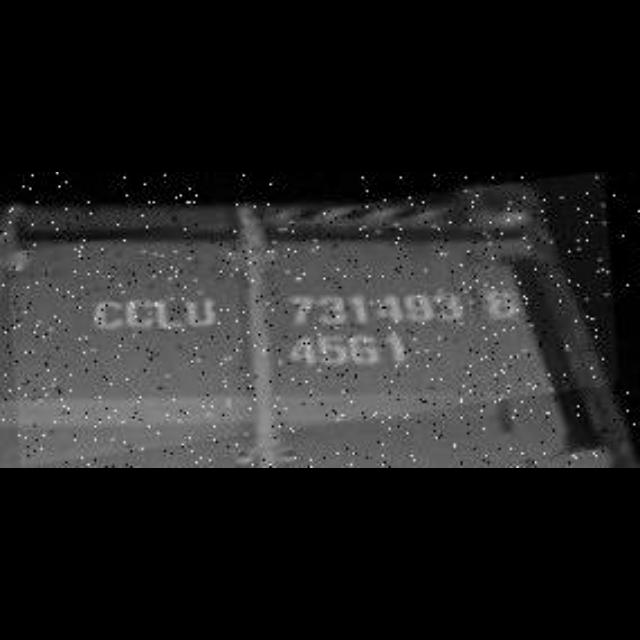1: (382, 331, 412, 374), (350, 289, 370, 329)
3: (313, 292, 347, 332), (434, 286, 461, 326)
4: (289, 333, 319, 371), (374, 291, 404, 327)
5: (316, 330, 349, 370)
6: (350, 331, 382, 373)
7: (286, 292, 312, 330)
8: (484, 288, 518, 322)
9: (406, 292, 432, 326)
c: (95, 294, 124, 334), (127, 292, 155, 332)
l: (155, 294, 185, 332)
u: (186, 294, 222, 330)
